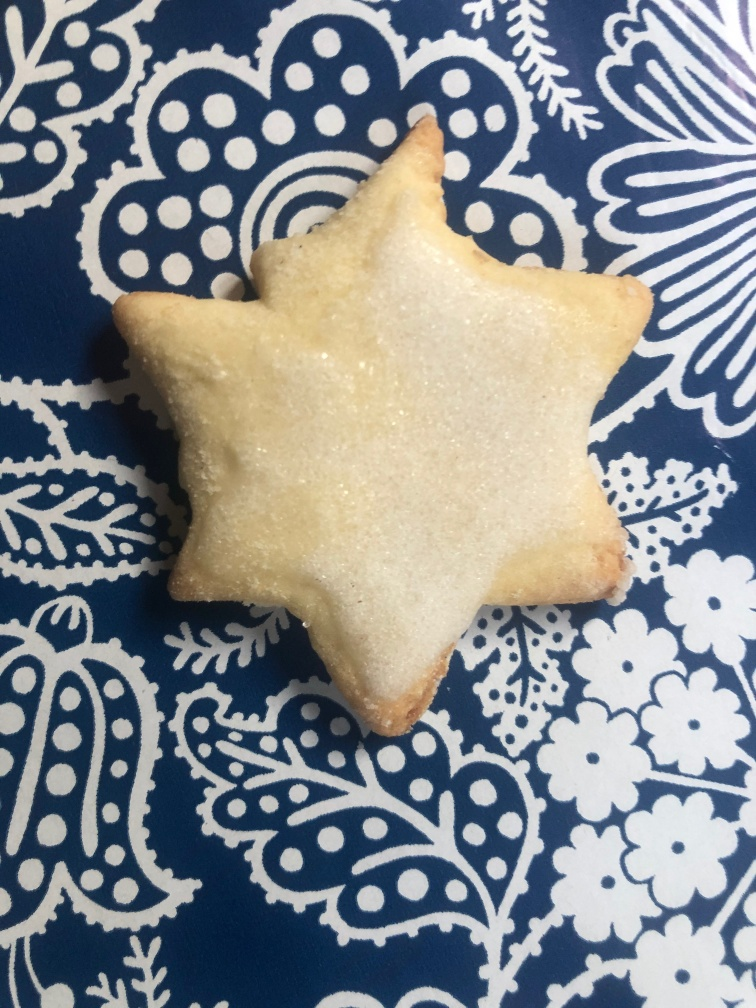star: (103, 106, 652, 754)
